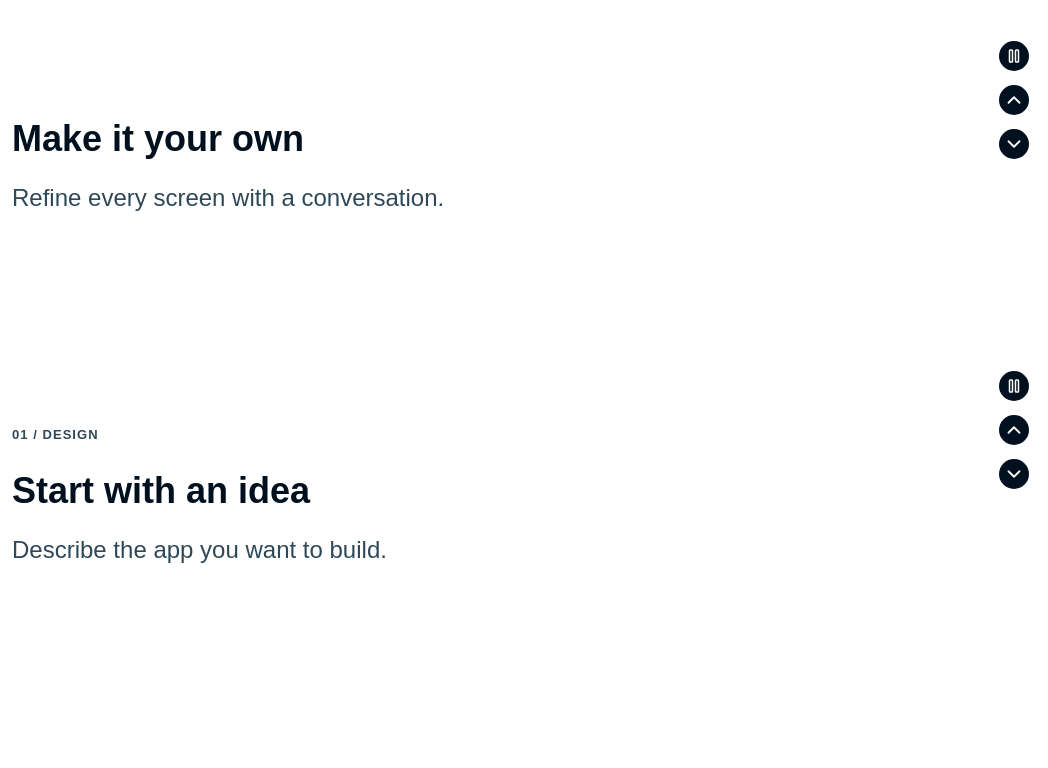
Test: LimeCarousel › keeps the two page instances independently observed and controlled
Expected: the heading "Make it your own" is shown, [12,118,304,159]
Expected: the heading "Start with an idea" is shown, [12,470,310,511]
Click the button named "Pause Design": click(1014, 56) [992,34,1036,78]
Wait 8000 ms
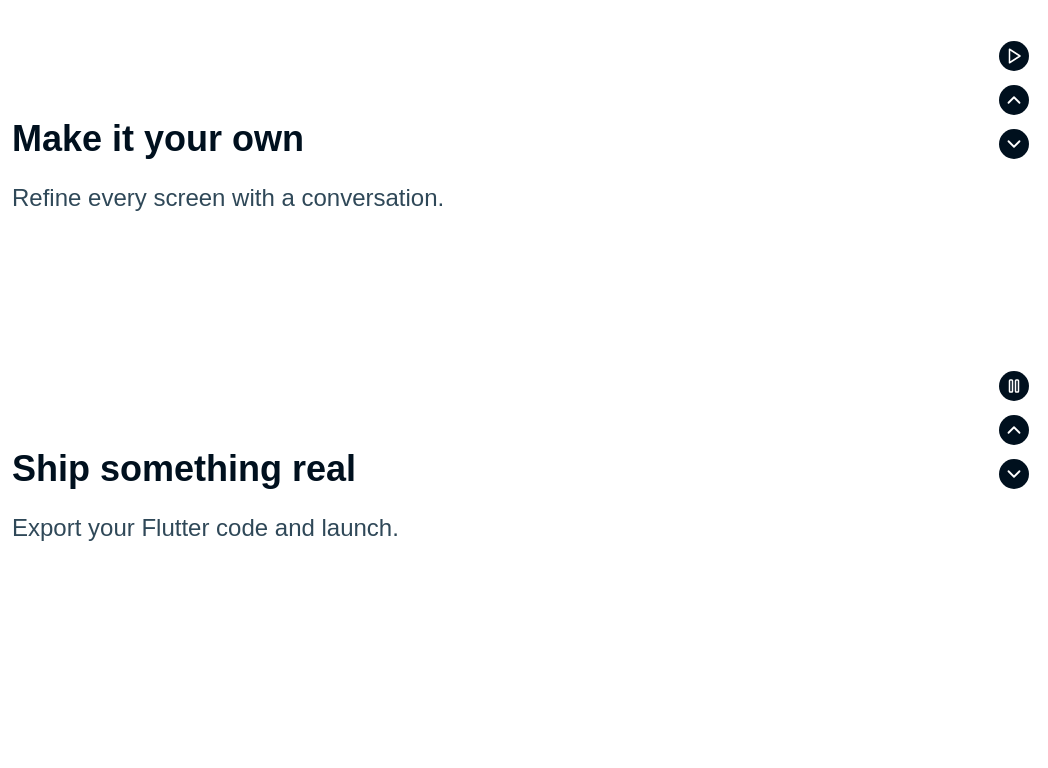
Expected: the heading "Make it your own" is shown, [12,118,304,159]
Now the heading "Ship something real" is shown, box [12,448,356,489]
